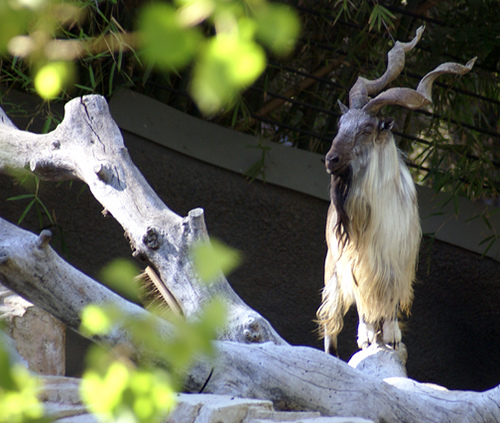goat: (313, 22, 477, 364)
